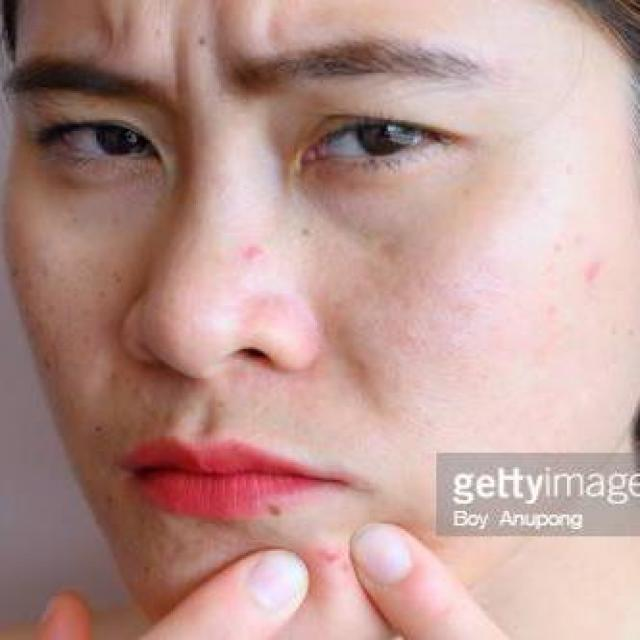blackheads: (316, 538, 336, 560)
